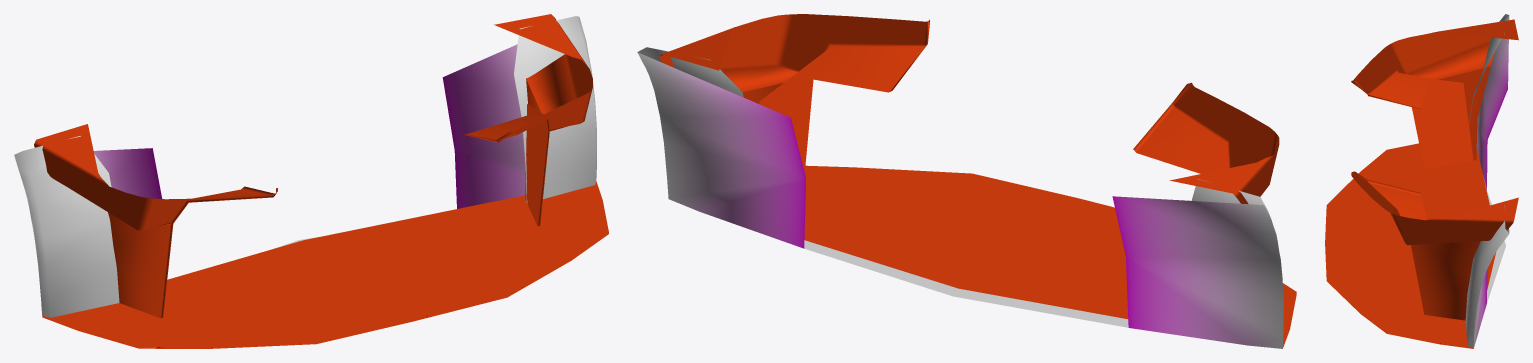
Rendered from Car_Nissan_SkylineGTRVspecR34_1999_BumperChassisF_SetF_AltB.fbx.
The picture shows the model from 3 angles, left to right: view 1: azimuth 30°, elevation 25°; view 2: azimuth 150°, elevation 25°; view 3: azimuth 270°, elevation 25°; orthographic projection. The views are drawn at different scales.
Visible parts, largest first — view 1: BumperChassisF 6; view 2: BumperChassisF 6; view 3: BumperChassisF 6.
Part boxes in pixels (bbox=[...]): BumperChassisF 6: bbox=[14, 14, 608, 348]; BumperChassisF 6: bbox=[637, 14, 1296, 348]; BumperChassisF 6: bbox=[1325, 14, 1518, 348].
Bounding box in the file's own units: 1.83 × 0.5042 × 0.6824.
